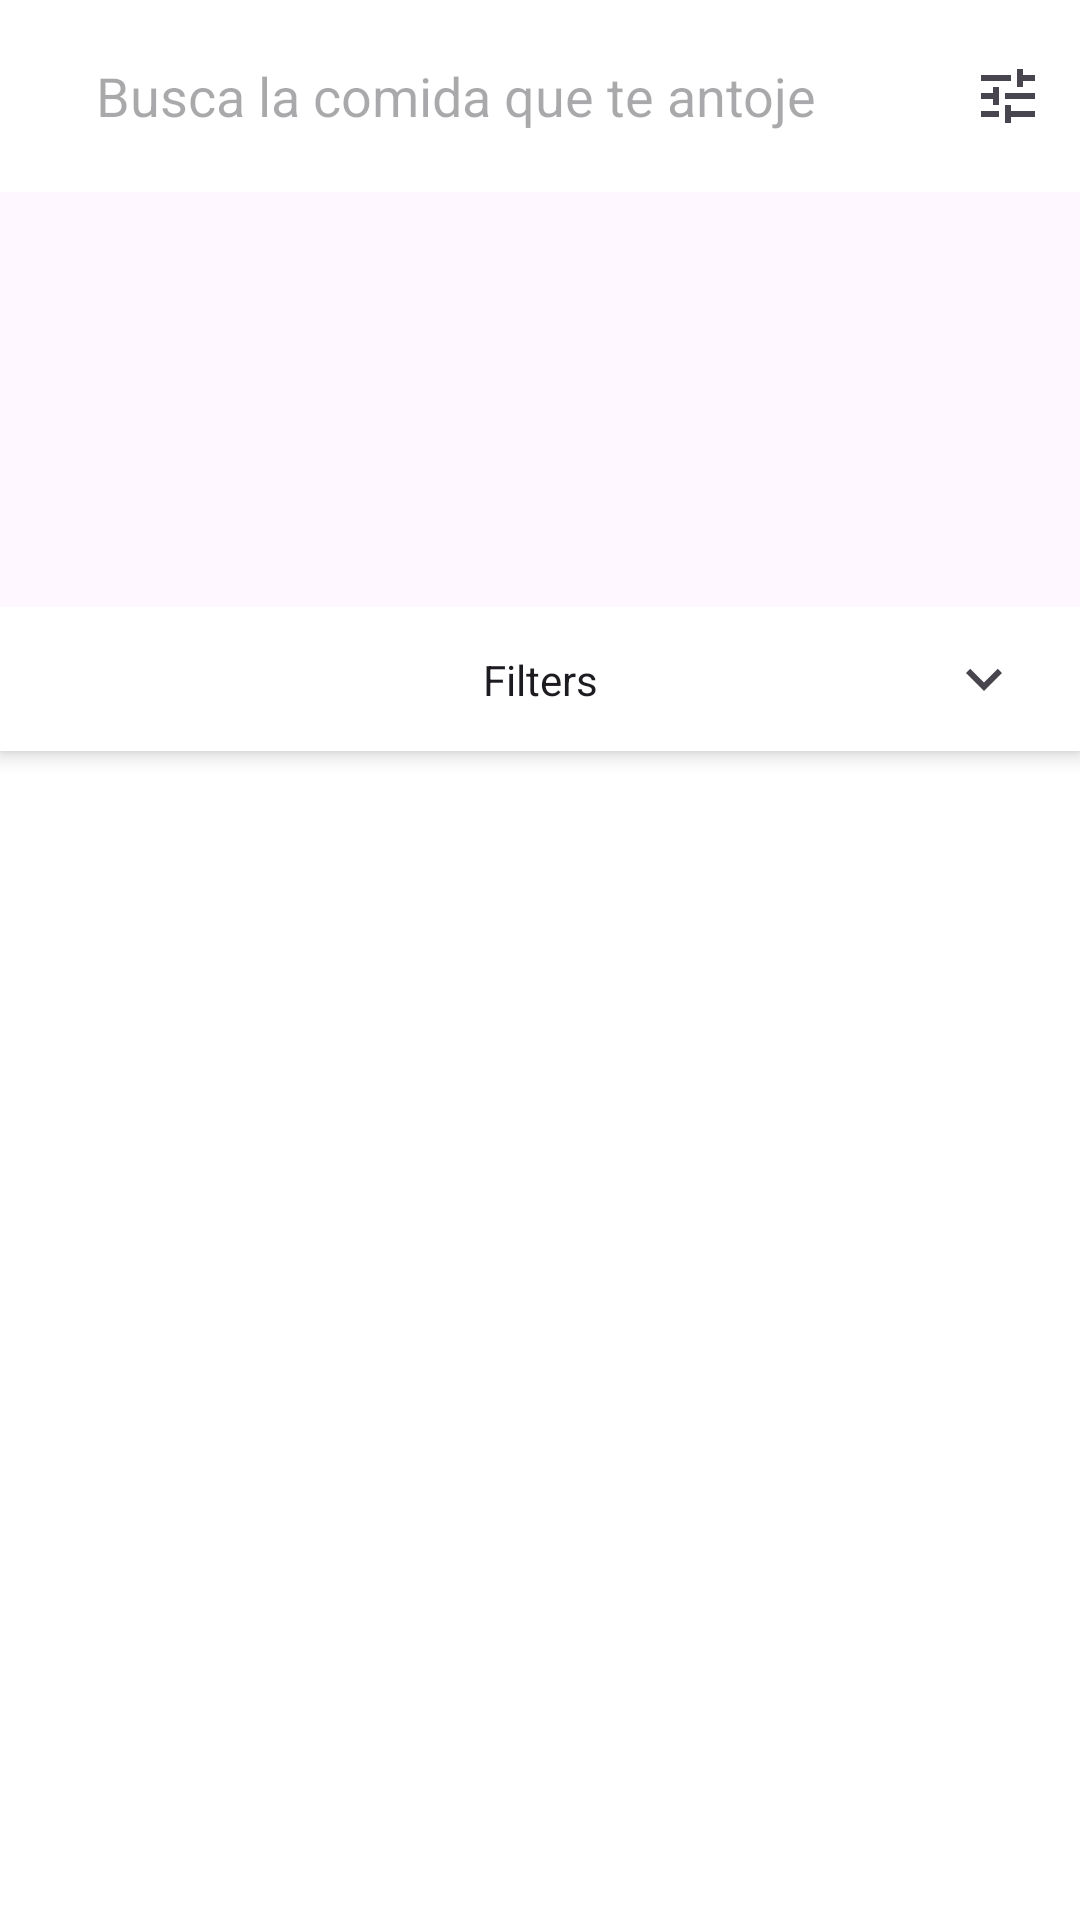

Screen size 1080 x 1920. Icon name, then its box in pixels as (x1, y1, x2, y2):
Hide filter section: (966, 669, 1002, 691)
